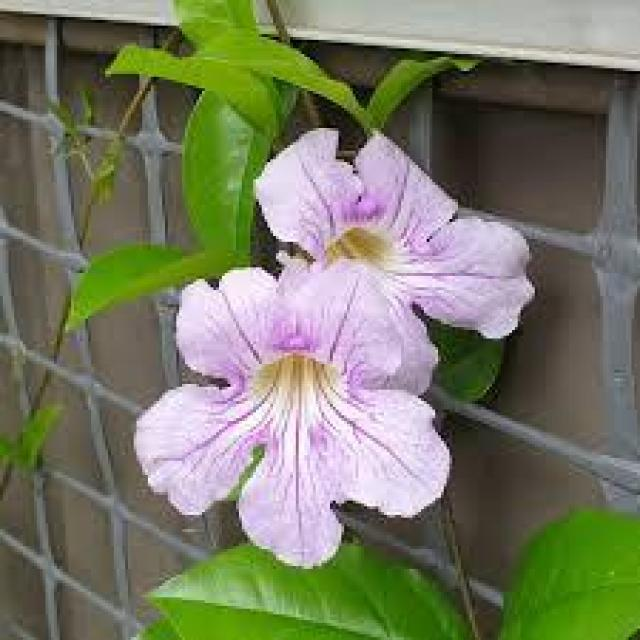organic waste: (142, 257, 452, 559), (255, 118, 556, 346)
